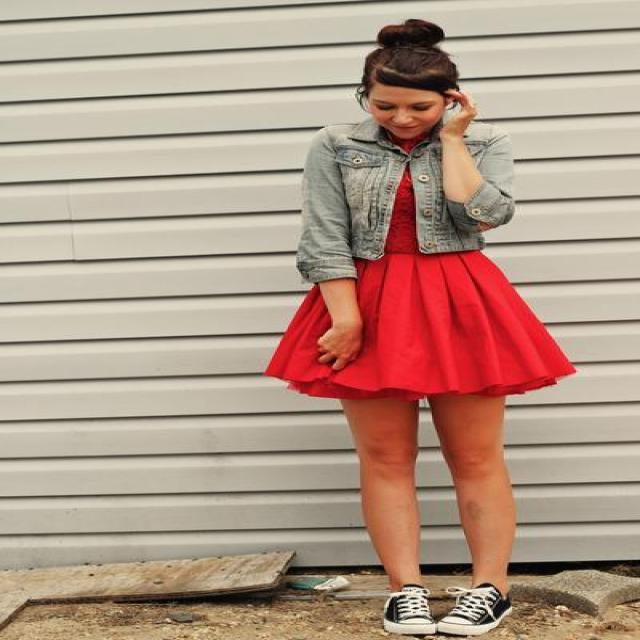jacket: (288, 98, 555, 295)
shirt: (326, 118, 440, 285)
shoe: (380, 576, 498, 639)
skirt: (250, 251, 594, 421)
